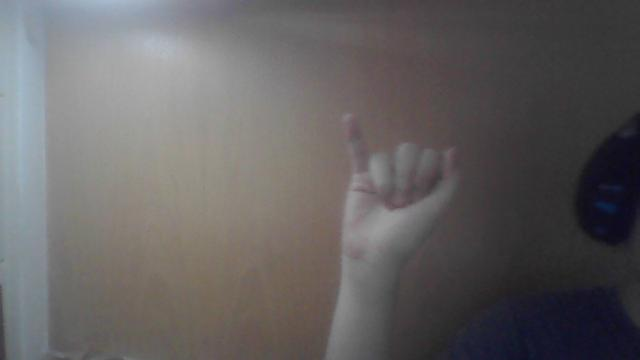Right: (337, 116, 463, 268)
